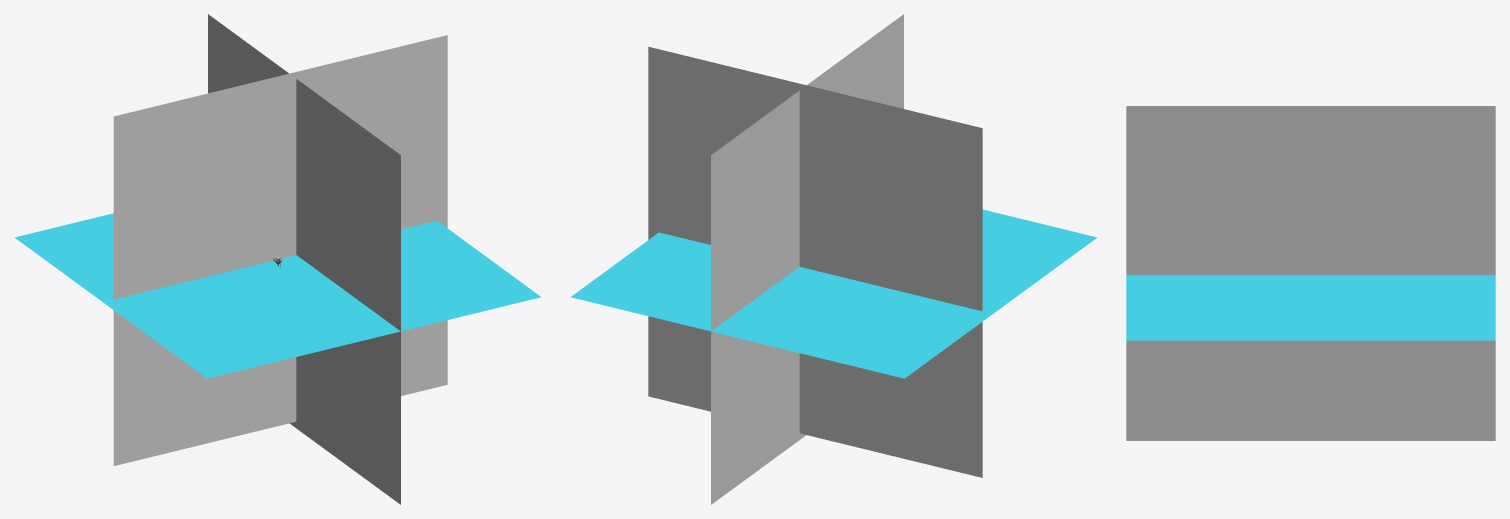
Rendered from uploads_files_3534884_Flying+Island.fbx.
3 views of the same model, side by side, from view 1: azimuth 30°, elevation 25°; view 2: azimuth 150°, elevation 25°; view 3: azimuth 270°, elevation 25° (orthographic). The views are drawn at different scales.
Parts seen in each view (by area): view 1: Plane.004, Plane.002, Plane.001; view 2: Plane.004, Plane.002, Plane.001; view 3: Plane.002, Plane.001.
Part boxes in pixels (x1,y1,x2,y2): Plane.004: [113, 35, 447, 465]; Plane.002: [208, 14, 400, 504]; Plane.001: [14, 213, 541, 378]; Plane.004: [648, 46, 982, 477]; Plane.002: [711, 14, 903, 504]; Plane.001: [570, 209, 1097, 378]; Plane.002: [1126, 106, 1495, 440]; Plane.001: [1126, 275, 1495, 340].
Bounding box in the file's own units: 297364 × 293903 × 288235.
